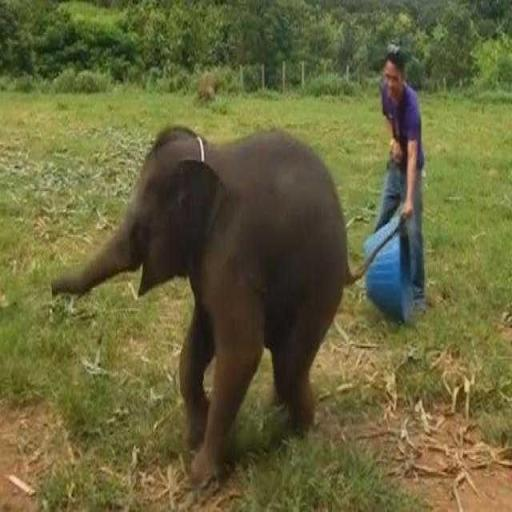Elephant: (50, 122, 370, 488)
